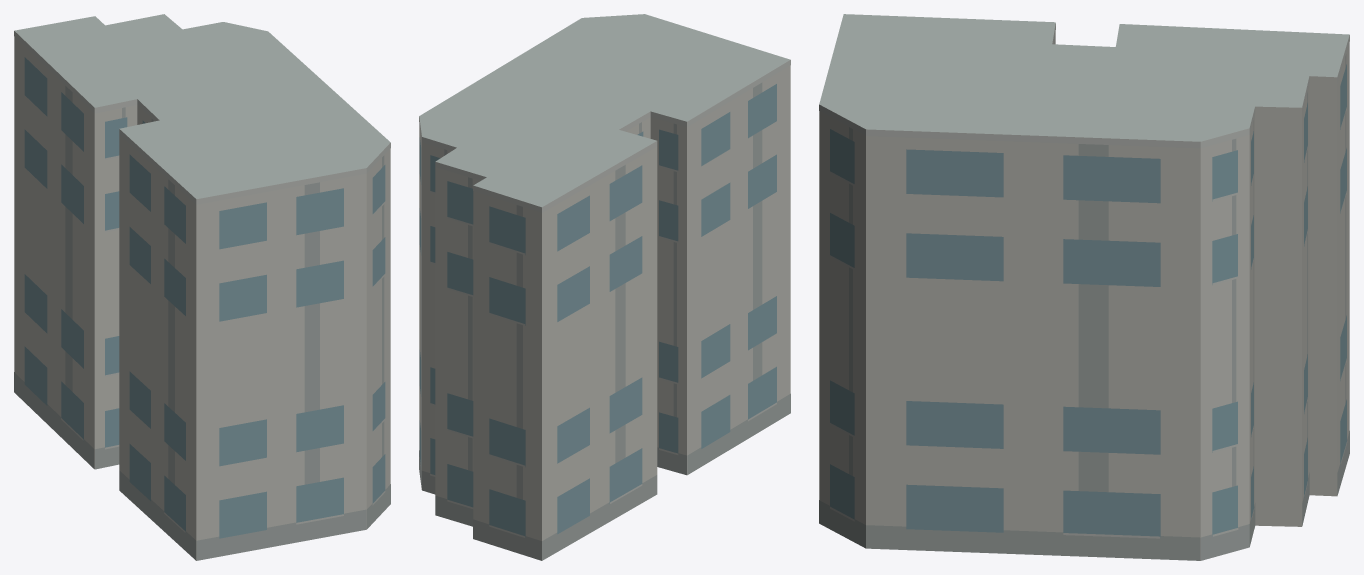
File: survey-upis-32821595.glb
The picture shows the model from 3 angles, left to right: view 1: azimuth 30°, elevation 25°; view 2: azimuth 150°, elevation 25°; view 3: azimuth 270°, elevation 25°; orthographic projection. The views are drawn at different scales.
Parts seen in each view (by area): view 1: survey-upis-32821595.tmp; view 2: survey-upis-32821595.tmp; view 3: survey-upis-32821595.tmp.
Part boxes in pixels (x1,y1,x2,y2): survey-upis-32821595.tmp: [14, 14, 390, 560]; survey-upis-32821595.tmp: [419, 14, 790, 560]; survey-upis-32821595.tmp: [819, 14, 1349, 560].
Size of the model in its own units: 10.08 by 15.4 by 17.68.
